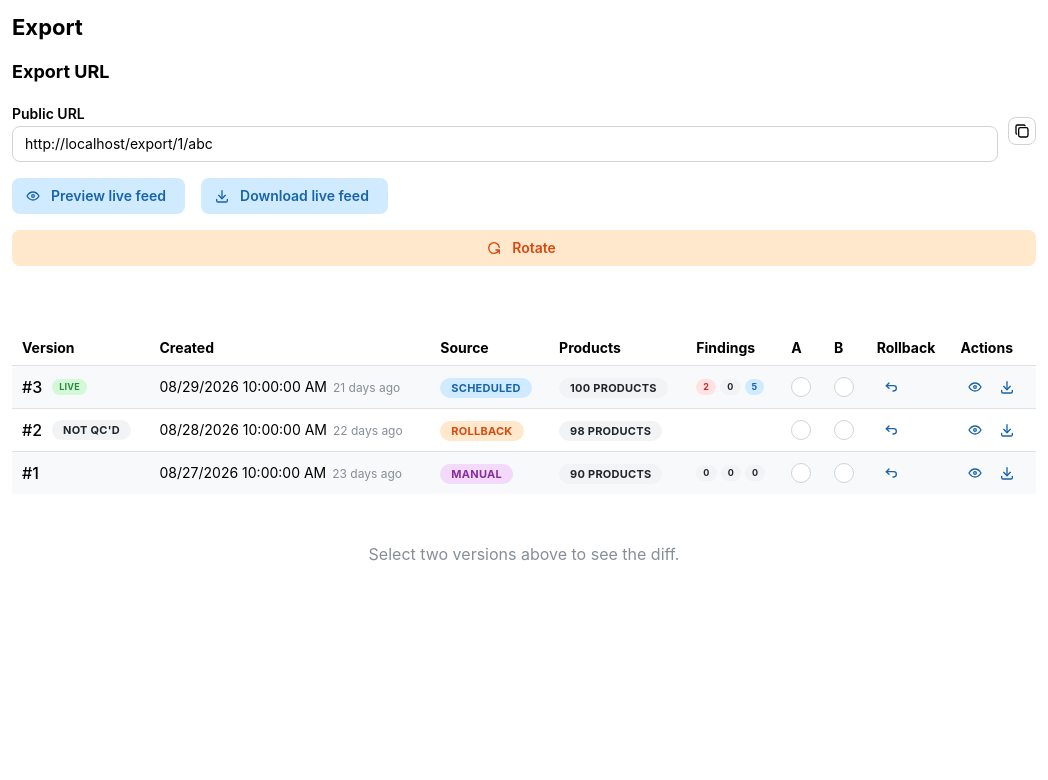
Test case: ExportPage › writes the selected A version to the URL query
Expected: the row with test id "version-row-3" is shown, [12,366,1036,409]
Click the radio button named "A 3". click: coordinates (801, 387)
box: [791,377,811,397]
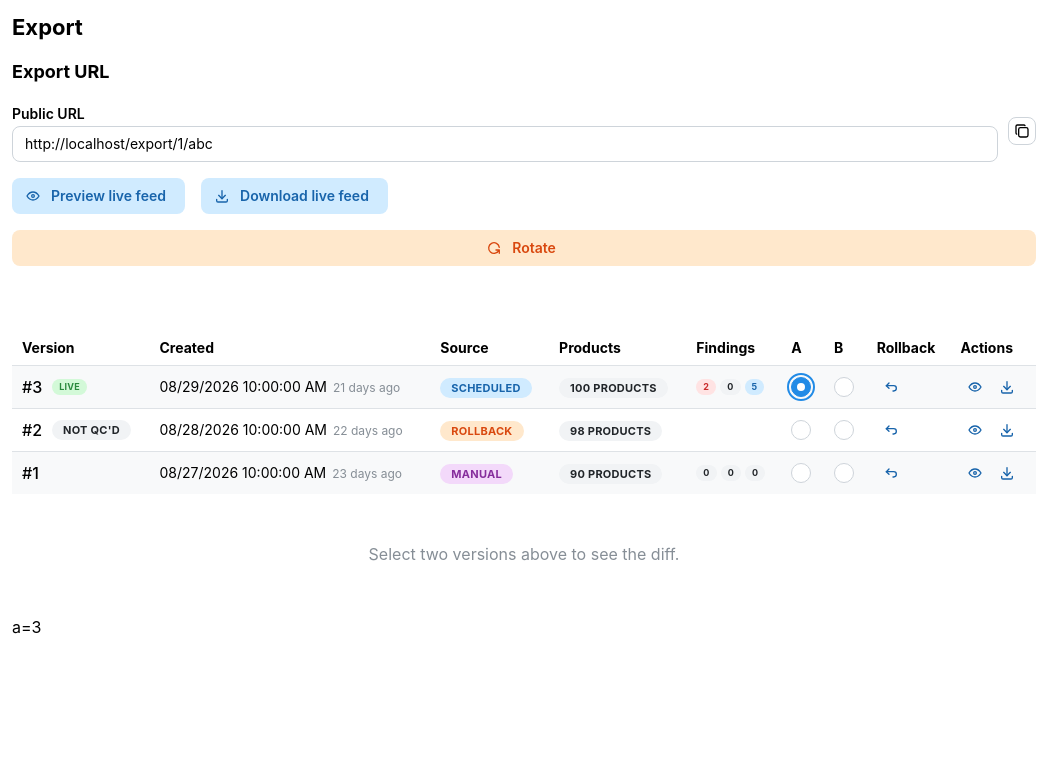
Expected: the text with test id "search-probe" reads "a=3", [12,617,42,637]
